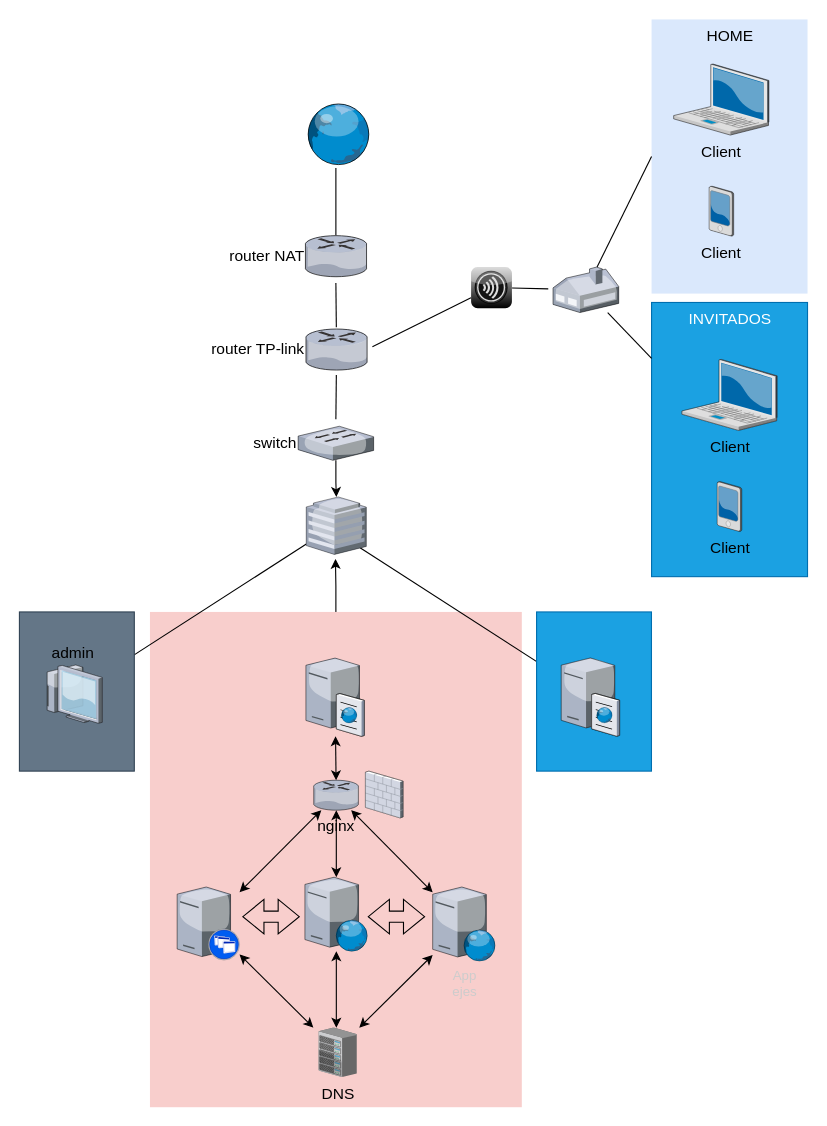
The diagram is 827 pixels wide and 1126 high, and some of its shapes have lost their labels. Each missing label, with the centre of its shape:
INTERNET: the point at 337,133
Nextcloud: the point at 208,923
Punto de acceso: the point at 490,287
Sandbox: the point at 589,695
Server 700: the point at 334,695
WordPress: the point at 335,914
